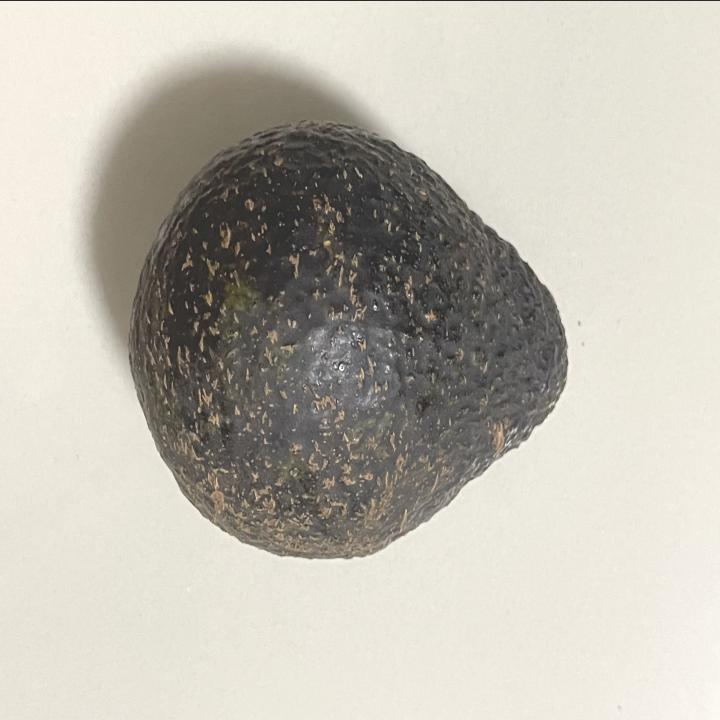Level2: (123, 112, 577, 570)
